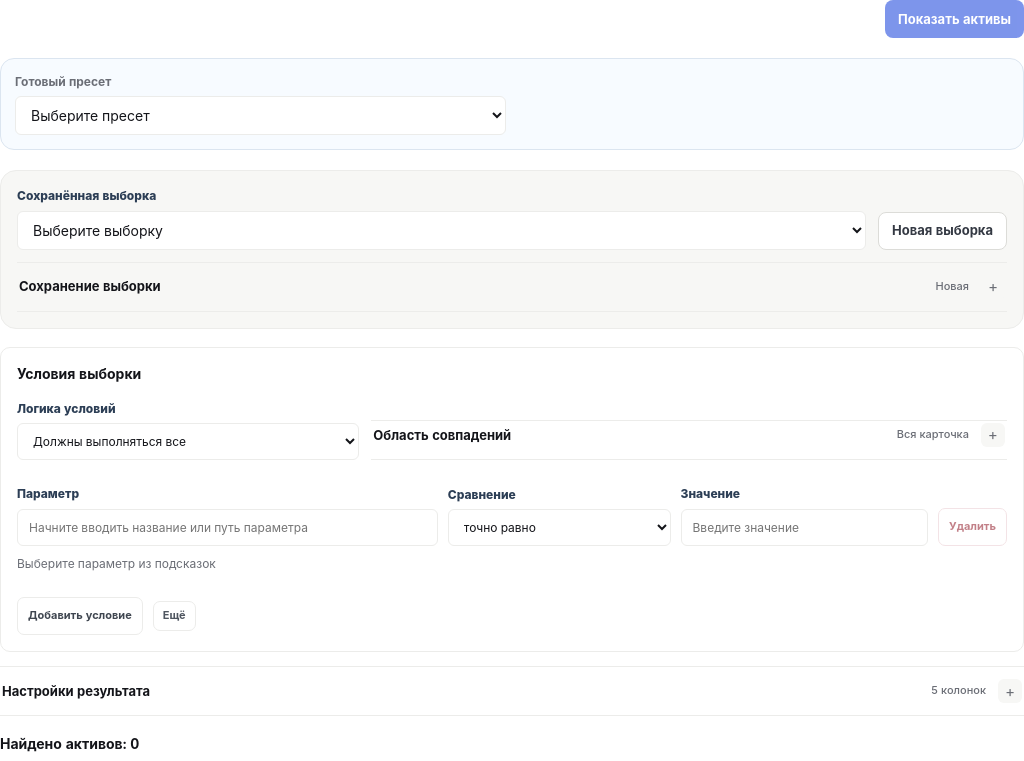
Test case: asset query UI › applies an active saved query immediately and can delete it
The image size is (1024, 761).
Step 1. Select "Публичные веб-серверы" in the dropdown labelled "Сохранённая выборка" → (442, 230), box x1=17 y1=211 x2=866 y2=250
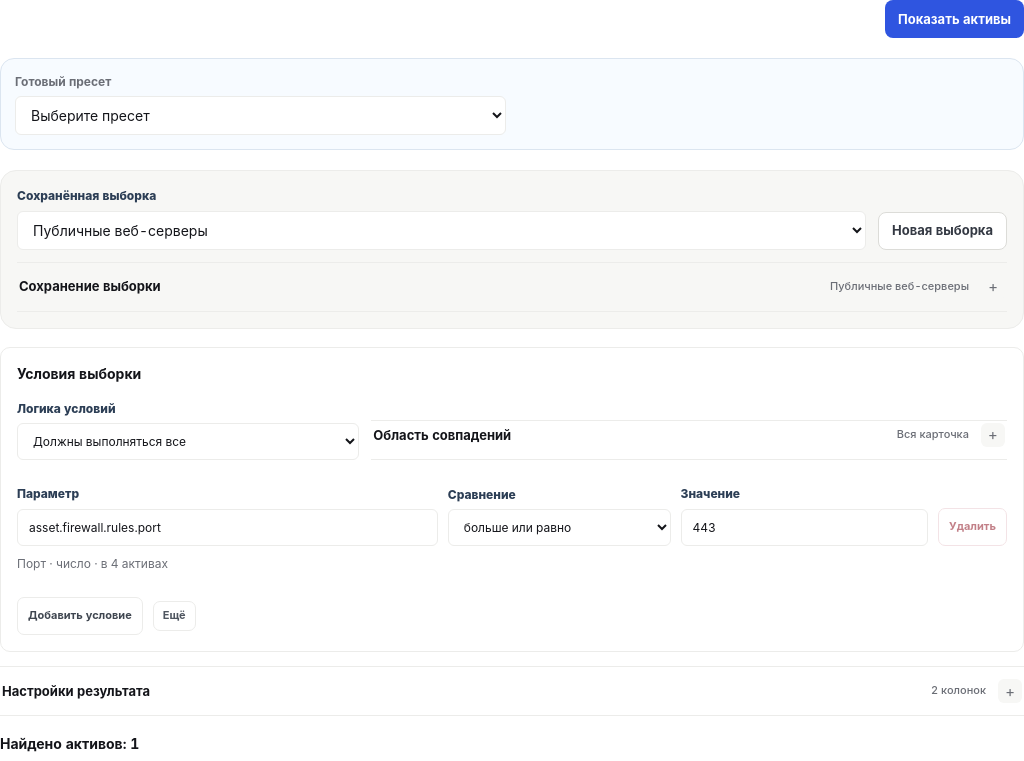
Step 2. Click the heading "Сохранение выборки" → (90, 286), box x1=19 y1=275 x2=1005 y2=299
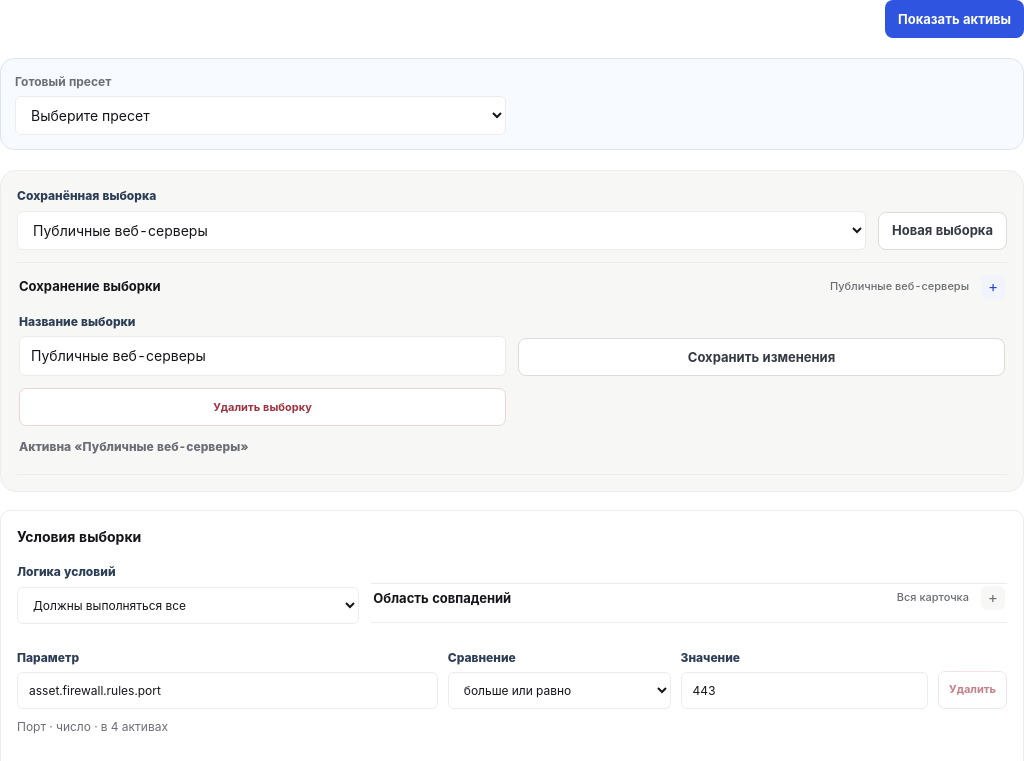
Step 3. Click the button "Удалить выборку" → (262, 408), box x1=19 y1=388 x2=506 y2=426
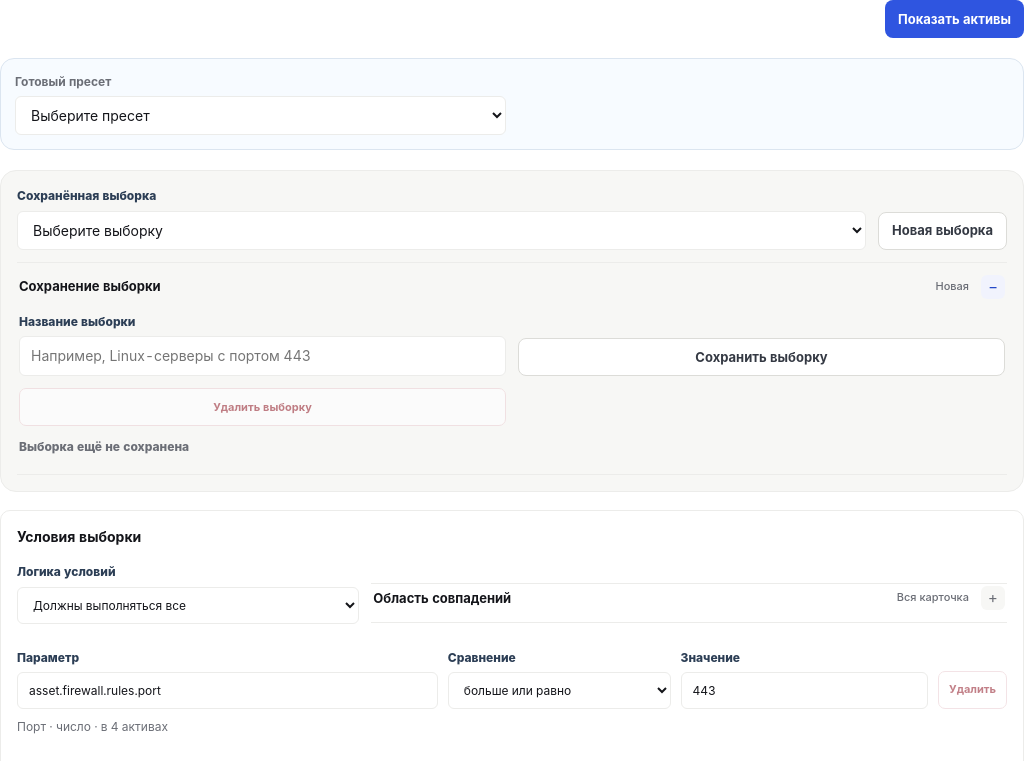
Now the heading "Публичные веб-серверы" is gone
